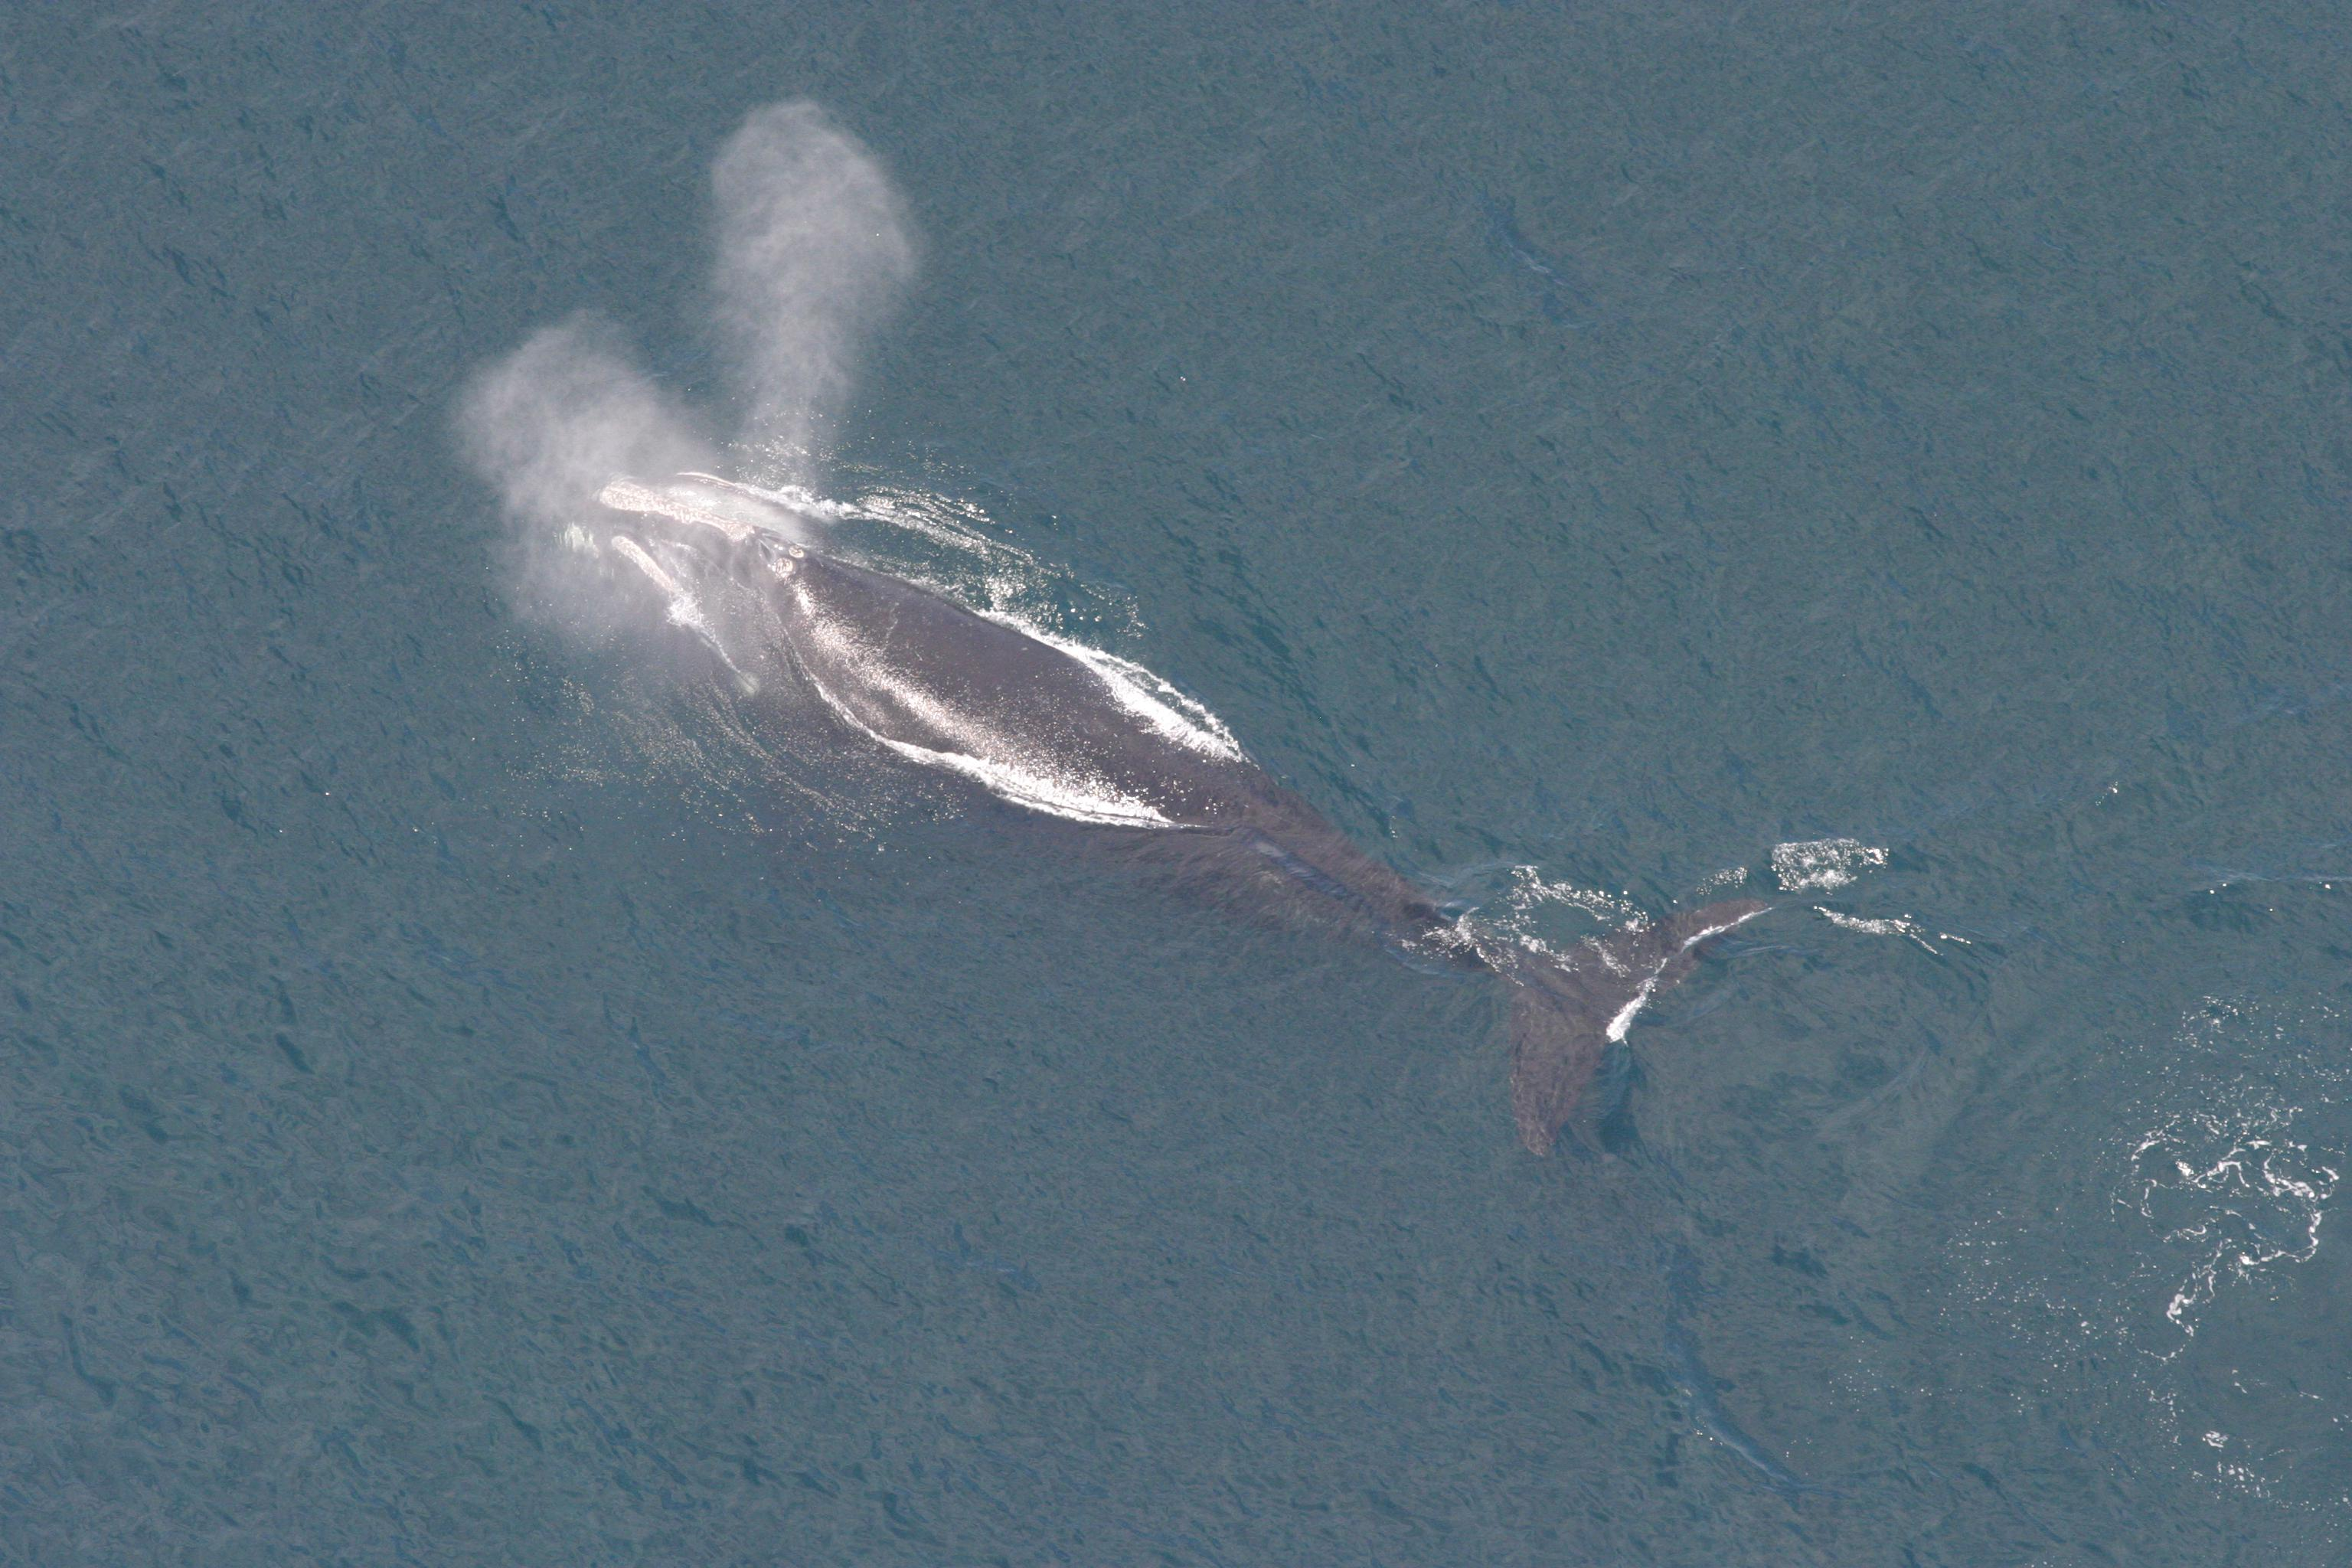whale: (499, 455, 1825, 1164)
